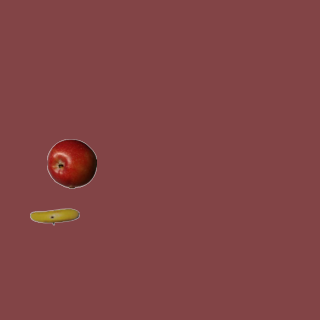Apple Braeburn: (46, 138, 96, 188)
Banana: (29, 191, 79, 241)
